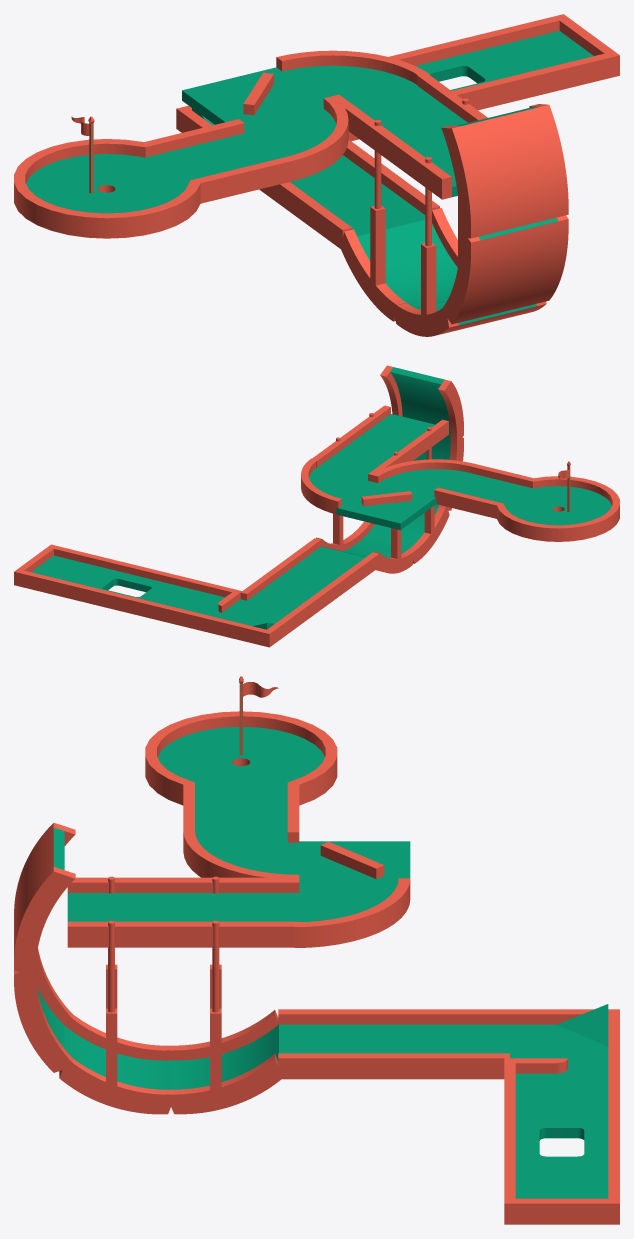
Rendered from Level13.fbx.
3 renders of one model, top to bottom at view 1: azimuth 30°, elevation 25°; view 2: azimuth 150°, elevation 25°; view 3: azimuth 270°, elevation 25°, orthographic. The views are drawn at different scales.
Visible parts, largest first — view 1: valley (×4), straight (×5), end_roundHoleLarge, bend_open (×2), end, open_diagonal, straight_hole, detail_supports, corner_hill, detail_flag; view 2: straight (×5), valley (×4), end_roundHoleLarge, bend_open (×2), end, straight_gap, corner_hill, straight_hole, open_diagonal, detail_supports; view 3: straight (×5), valley (×4), end_roundHoleLarge, bend_open (×2), end, straight_gap, corner_hill, open_diagonal, straight_hole, detail_supports.
Boxes of the visible parts, x1,y1,x2,y2 form: valley (×4): (341,104,568,336); straight (×5): (141,75,487,250); end_roundHoleLarge: (14,139,200,238); bend_open (×2): (242,50,430,180); end: (467,14,619,98); open_diagonal: (182,67,325,129); straight_hole: (389,37,525,110); detail_supports: (370,98,468,334); corner_hill: (176,105,214,132); detail_flag: (71,116,94,193); straight (×5): (240,405,535,619); valley (×4): (316,365,463,573); end_roundHoleLarge: (497,476,619,541); bend_open (×2): (301,458,472,514); end: (14,544,113,600); straight_gap: (141,575,241,631); corner_hill: (205,599,306,647); straight_hole: (76,560,177,615); open_diagonal: (336,482,436,530); detail_supports: (333,413,434,567); straight (×5): (67,783,509,1079); valley (×4): (14,823,280,1114); end_roundHoleLarge: (145,711,337,805); bend_open (×2): (183,830,410,947); end: (504,1154,619,1224); straight_gap: (504,1058,619,1117); corner_hill: (504,1004,619,1068); open_diagonal: (296,841,410,888); straight_hole: (504,1107,619,1166); detail_supports: (106,876,221,1102).
Size of the model in its own units: 74 by 24.17 by 52.33.
